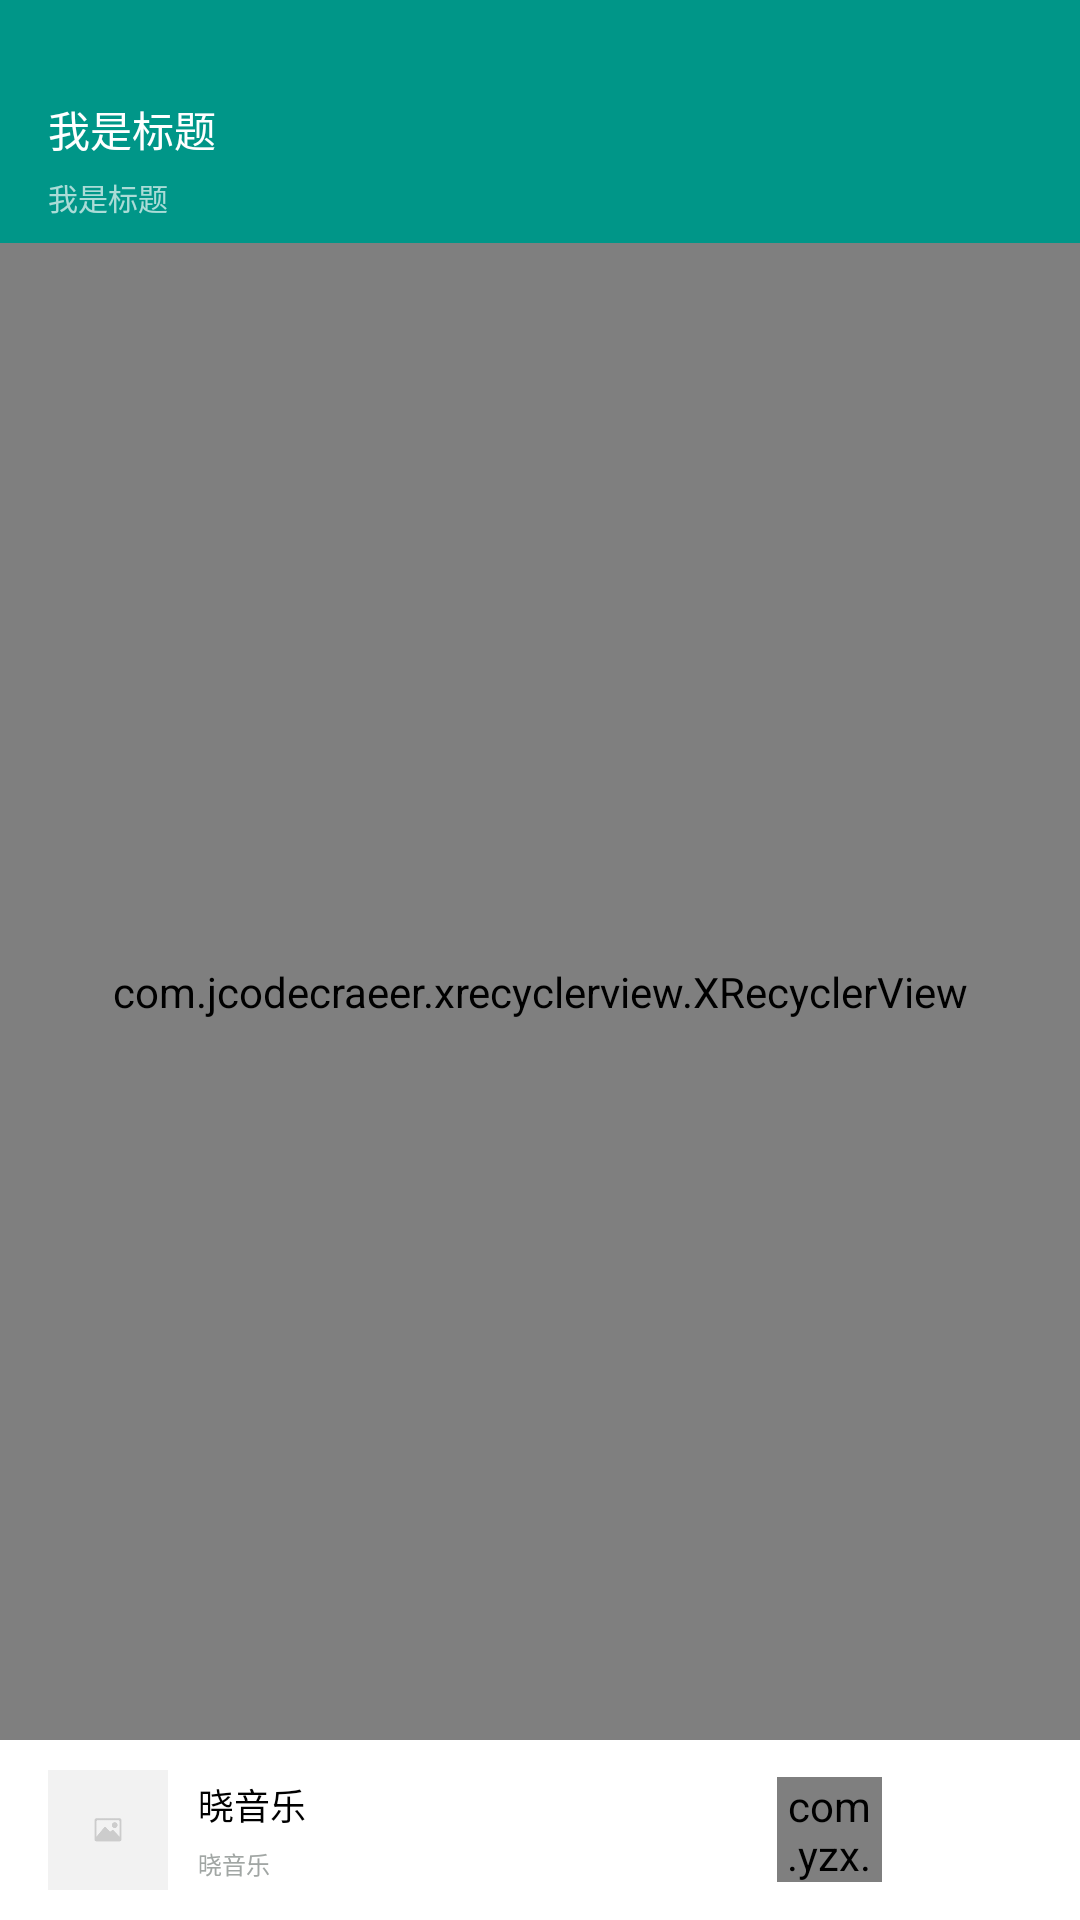

Screen size 1080*1920. Icon name, then its center in pixels as [x,y]:
zhanweitu: [108,1830]
